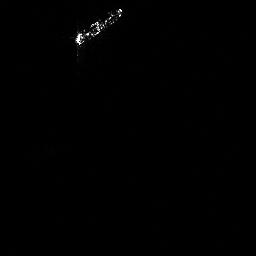ship: (70, 5, 125, 50)
